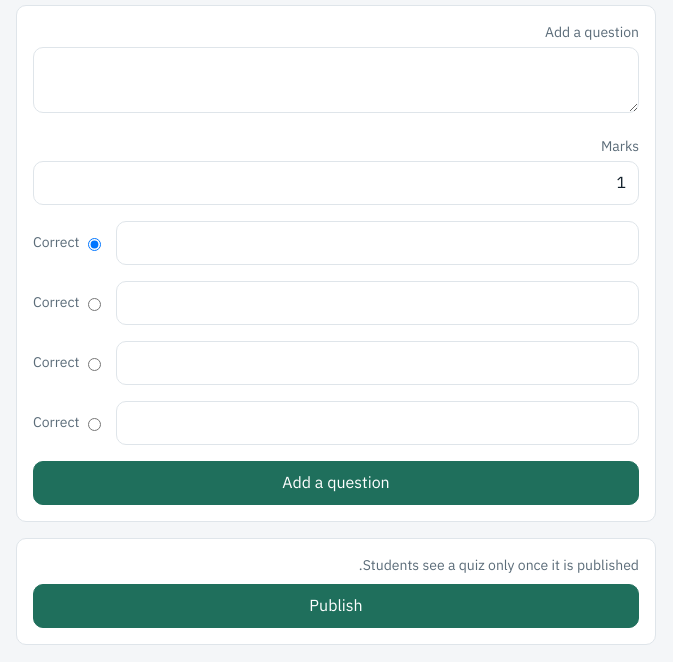
Scenario: the quiz editor › turns a refused publish into sentences that name the question
(page scrolled)
What coordinates should you click on to do the following:
click the button "Publish"
I would click on:
 (336, 606)
Its box is left=33, top=584, right=639, bottom=628.
(page scrolled)
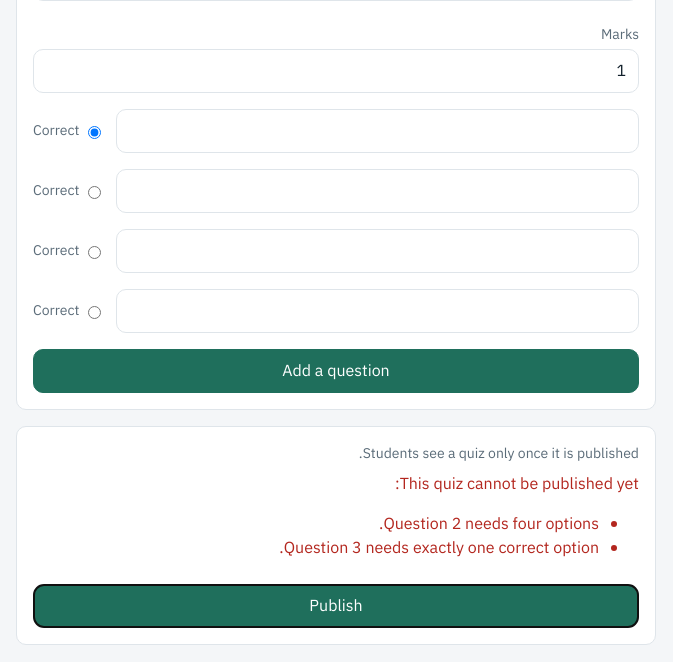
Result: the message shows "Question 2 needs four options." at left=379, top=512, right=599, bottom=536
Result: the message shows "Question 3 needs exactly one correct option." at left=279, top=536, right=599, bottom=560
